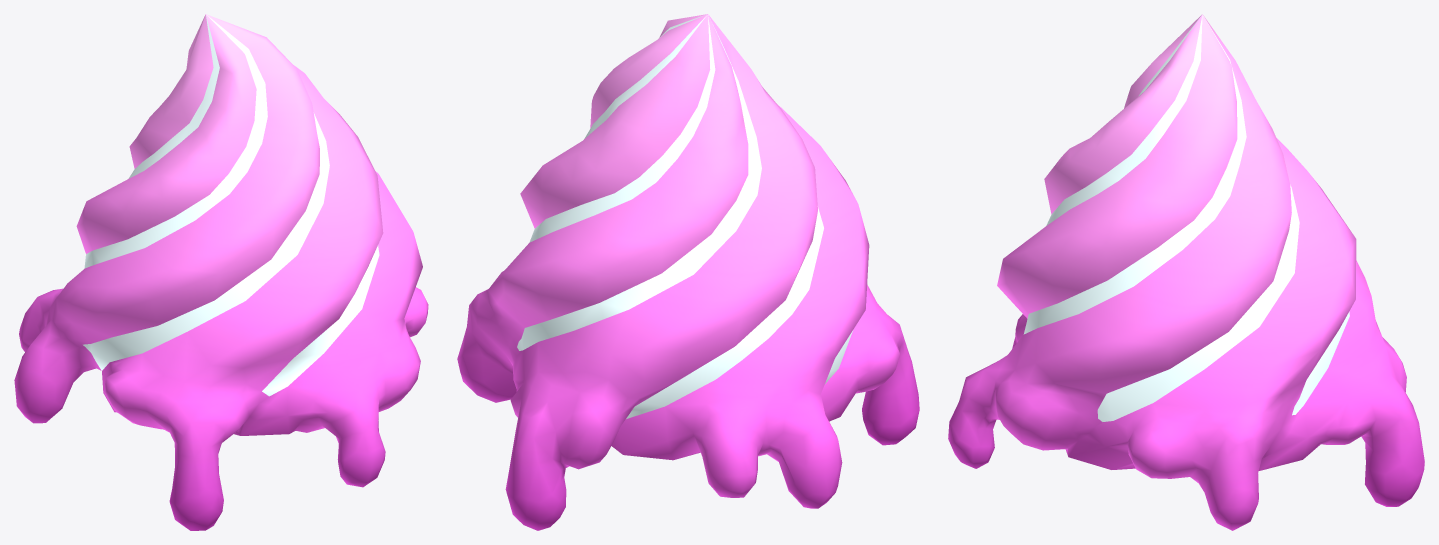
File: TowerCap_03.glb
The picture shows the model from 3 angles, left to right: view 1: azimuth 30°, elevation 25°; view 2: azimuth 150°, elevation 25°; view 3: azimuth 270°, elevation 25°; orthographic projection. The views are drawn at different scales.
Visible parts, largest first — view 1: TowerCap_03; view 2: TowerCap_03; view 3: TowerCap_03.
Boxes of the visible parts, x1,y1,x2,y2 form: TowerCap_03: [14, 14, 428, 530]; TowerCap_03: [457, 14, 919, 530]; TowerCap_03: [948, 14, 1424, 530].
Size of the model in its own units: 10.36 by 11.68 by 10.9.
Materials: 1 (1 with a texture image).
